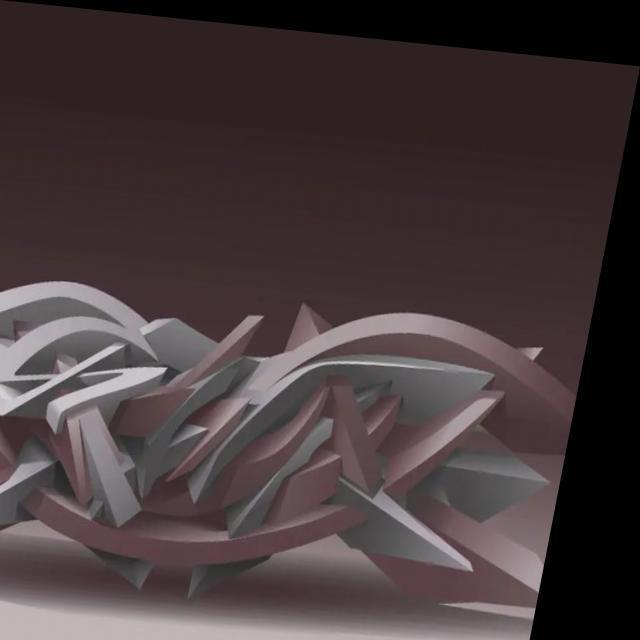nonspitting: (0, 280, 576, 611)
